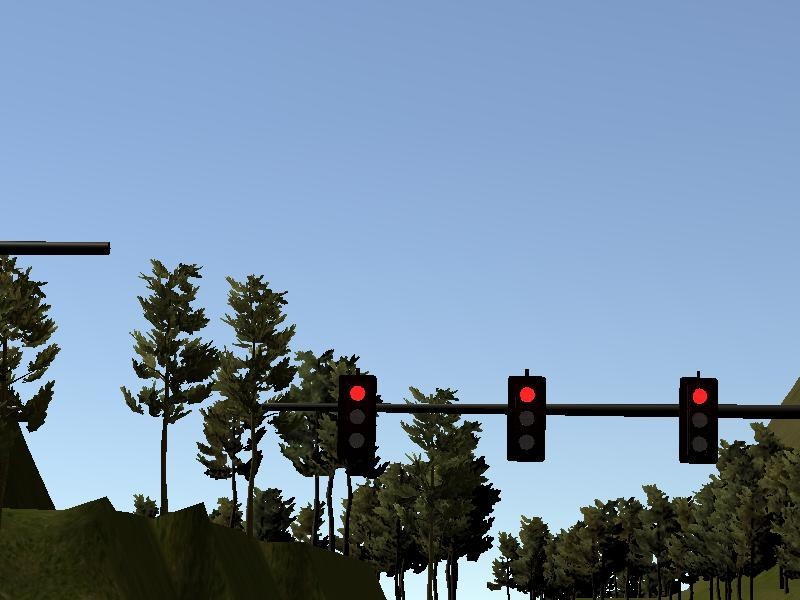red: (674, 369, 723, 467), (503, 370, 549, 466), (337, 370, 379, 463)
